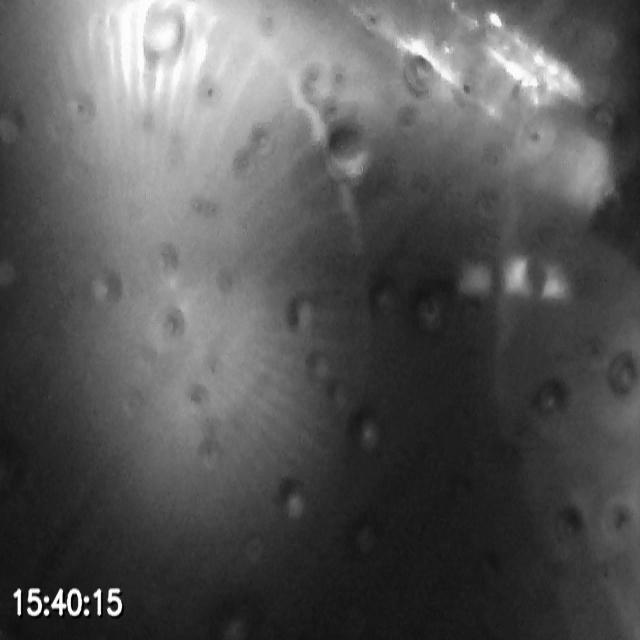white-dots: (455, 254, 571, 301)
